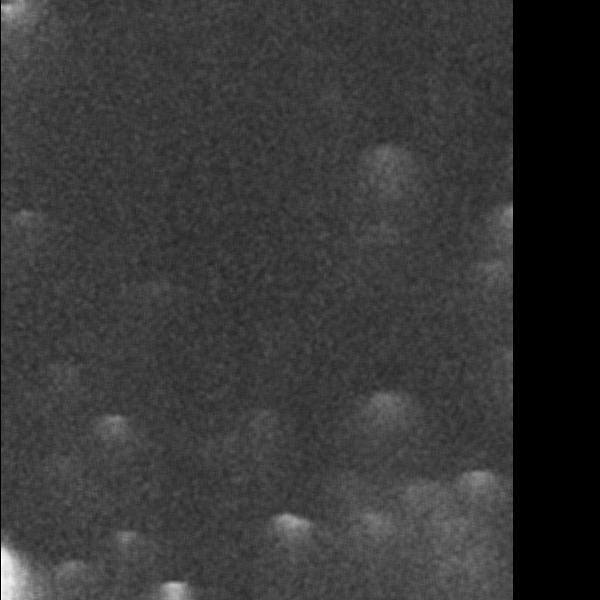spark: (194, 159, 264, 219), (122, 407, 200, 455), (37, 540, 118, 583), (442, 134, 508, 180), (50, 372, 116, 407), (27, 477, 56, 521), (471, 279, 506, 302), (77, 589, 103, 600)
